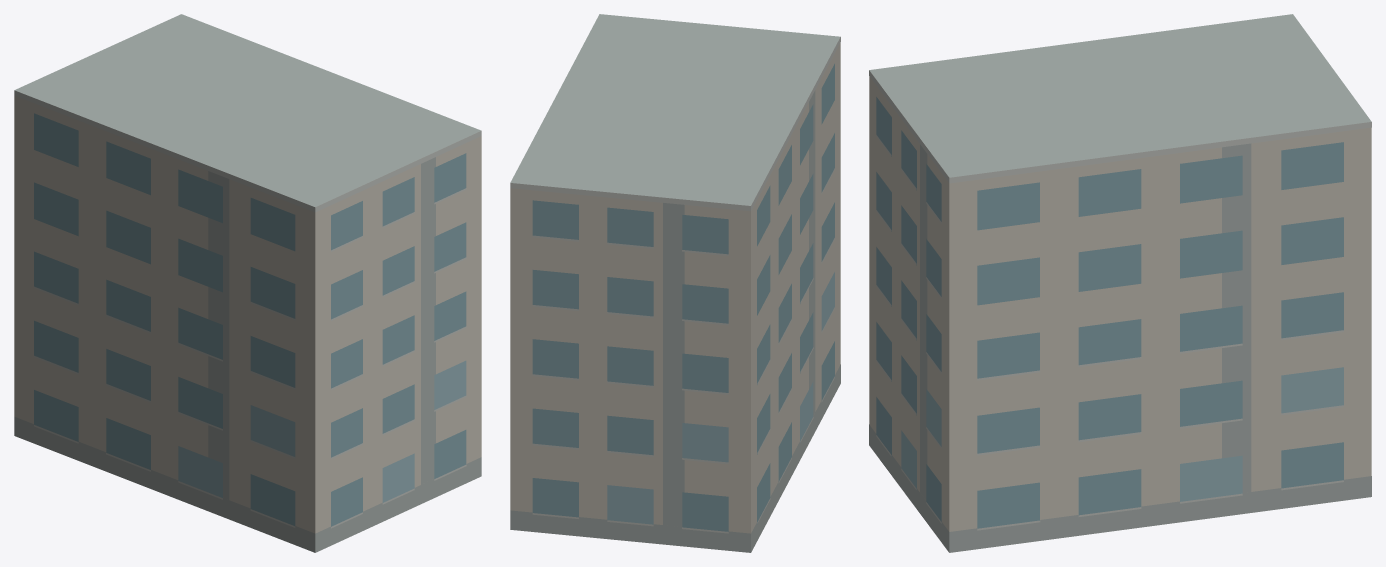
File: survey-upis-32618053.glb
3 views of the same model, side by side, from view 1: azimuth 30°, elevation 25°; view 2: azimuth 150°, elevation 25°; view 3: azimuth 270°, elevation 25° (orthographic). The views are drawn at different scales.
Visible parts, largest first — view 1: survey-upis-32618053.tmp; view 2: survey-upis-32618053.tmp; view 3: survey-upis-32618053.tmp.
Part boxes in pixels (x1,y1,x2,y2): survey-upis-32618053.tmp: [14, 14, 481, 552]; survey-upis-32618053.tmp: [510, 14, 840, 552]; survey-upis-32618053.tmp: [869, 14, 1371, 552].
Size of the model in its own units: 15.08 by 16.1 by 19.56.
